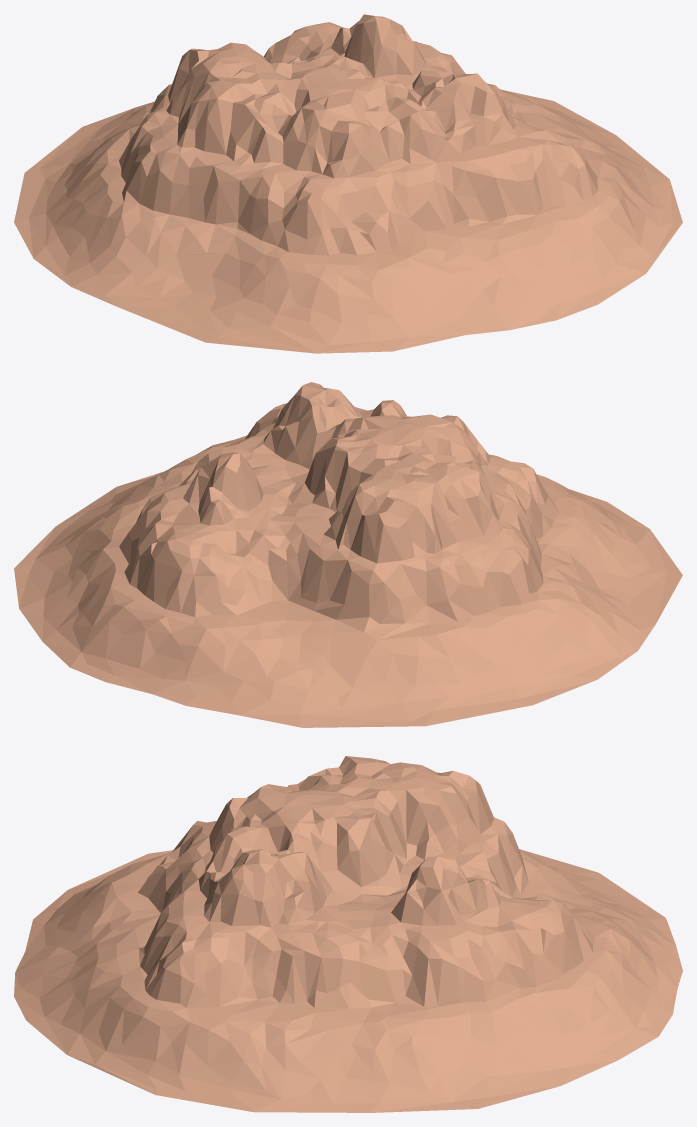
File: MT_Mountain_L_b_24_LOD.fbx
3 renders of one model, top to bottom at view 1: azimuth 30°, elevation 25°; view 2: azimuth 150°, elevation 25°; view 3: azimuth 270°, elevation 25°, orthographic. The views are drawn at different scales.
Visible parts, largest first — view 1: MT_Mountain_L_b_24_LOD0; view 2: MT_Mountain_L_b_24_LOD0; view 3: MT_Mountain_L_b_24_LOD0.
Boxes of the visible parts, box(x1,y1,x2,y2) form: MT_Mountain_L_b_24_LOD0: box(14, 14, 682, 353); MT_Mountain_L_b_24_LOD0: box(14, 382, 682, 727); MT_Mountain_L_b_24_LOD0: box(14, 756, 682, 1112).
Size of what is drawn, in the model's own units: 9620 by 2501 by 9610.
